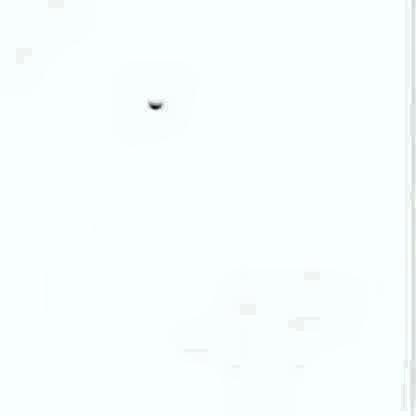golfball: (143, 95, 161, 106)
